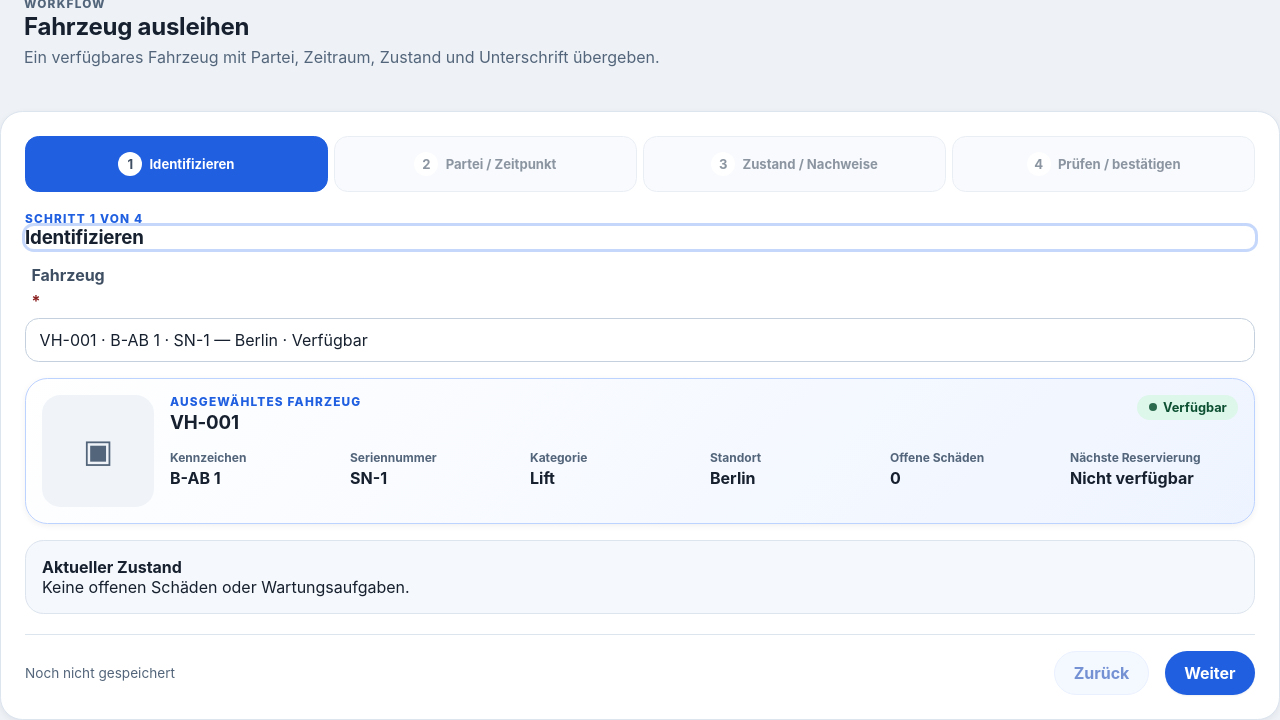
LoanCheckoutPage › validates the party step before revealing condition evidence
(page scrolled)
expect the heading "Fahrzeug ausleihen" is shown: met, box [24,12,249,41]
expect the element "Ausgewähltes Fahrzeug" shows "B-AB 1": met, box [170,468,221,488]
What coordinates should you click on to do the following:
click the button "Weiter"
I would click on:
 (1210, 673)
Its box is [1165,651,1255,695].
(page scrolled)
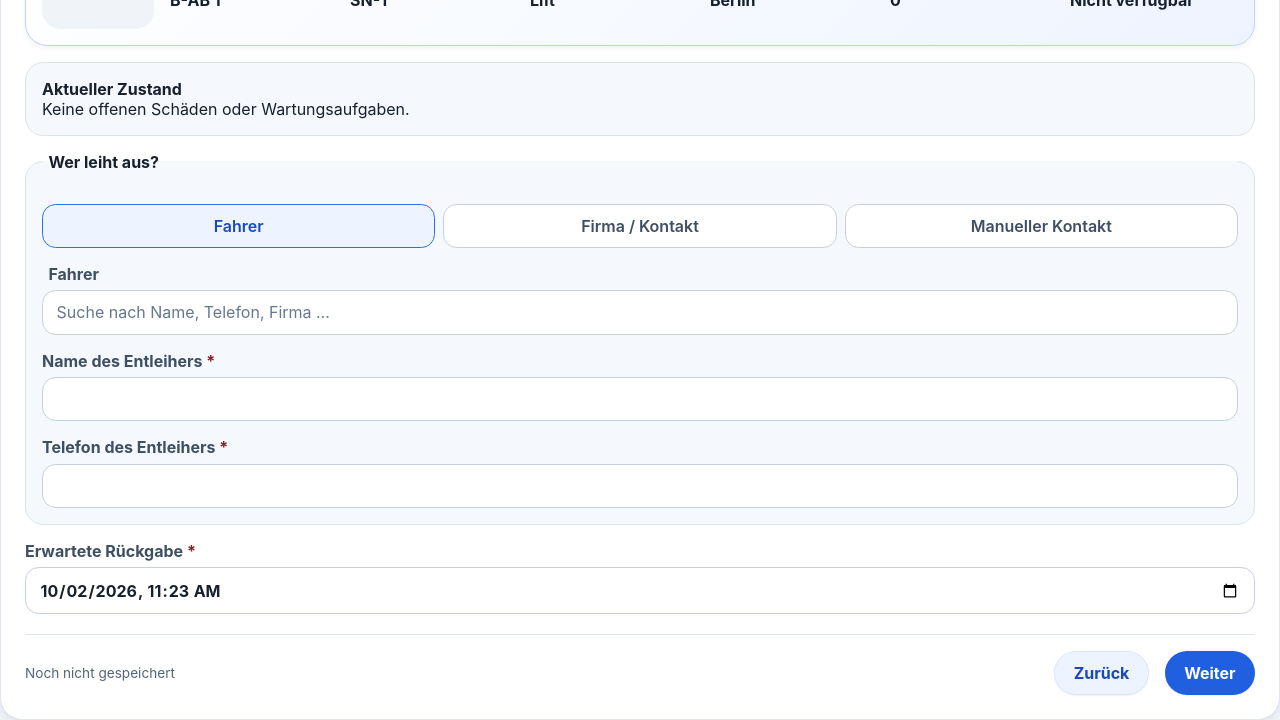
What coordinates should you click on to do the following:
click the button "Weiter"
I would click on:
 (1210, 673)
Its box is [1165,651,1255,695].
(page scrolled)
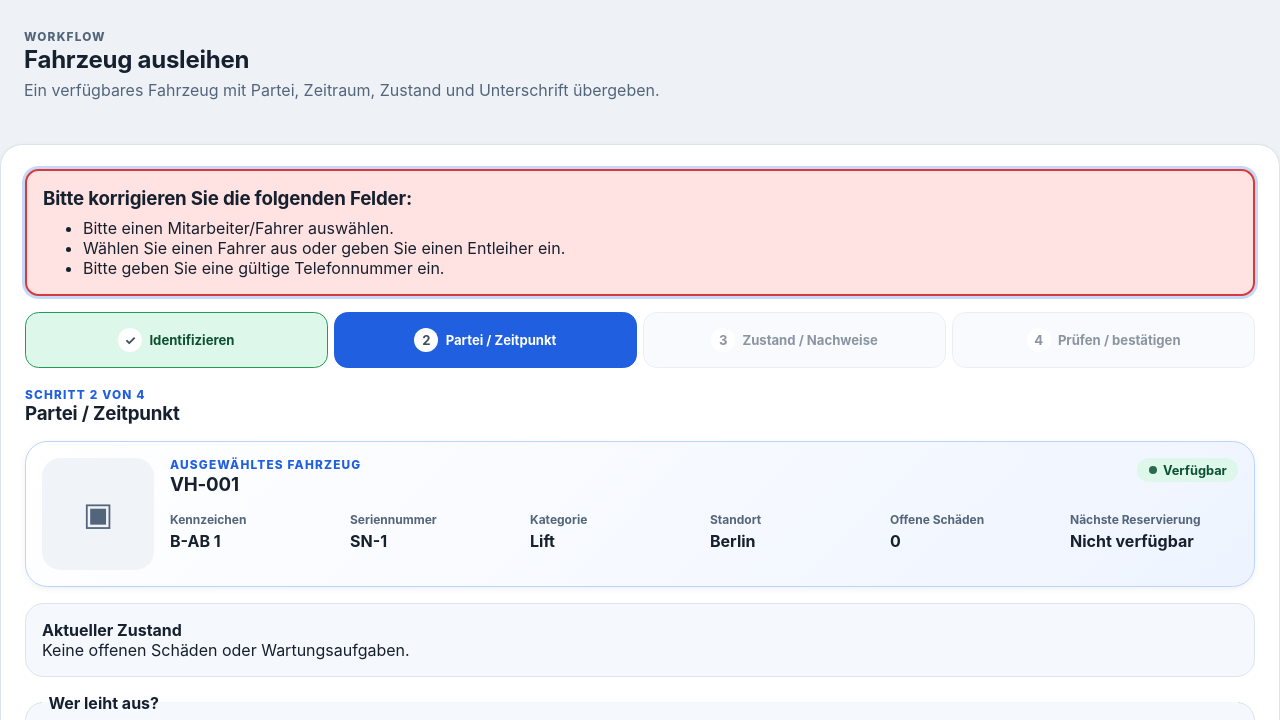
expect the list item "Bitte einen Mitarbeiter/Fahrer auswählen." is shown: met, box [83,218,394,238]
